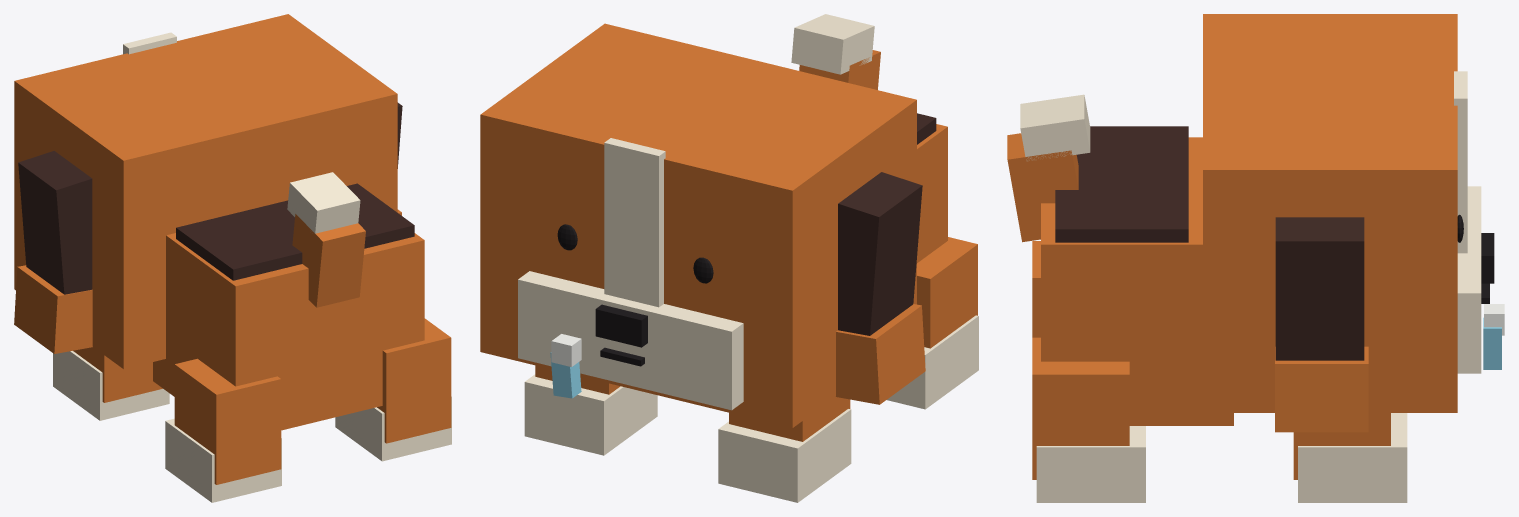
Rendered from Beagle_Block.gltf.
3 renders of one model, left to right at view 1: azimuth 30°, elevation 25°; view 2: azimuth 150°, elevation 25°; view 3: azimuth 270°, elevation 25°, orthographic. The views are drawn at different scales.
Parts seen in each view (by area): view 1: BigHead, ShortTorso, LegBL_Leg, FloppyEarL, DarkSaddle, LegBR_Leg, FloppyEarTipL, ShortTail, LegBL_Paw, LegFL_Paw, WhiteTailTip, LegBR_Paw (+2 smaller); view 2: BigHead, WhiteMuzzle, FloppyEarL, WhiteFaceStripe, LegFL_Paw, LegFR_Paw, FloppyEarTipL, LegBL_Leg, LegBL_Paw, WhiteTailTip, ShortTorso, LegFL_Leg (+5 smaller); view 3: BigHead, ShortTorso, DarkSaddle, FloppyEarR, LegBR_Leg, FloppyEarTipR, LegFR_Paw, LegBR_Paw, ShortTail, WhiteMuzzle, WhiteTailTip, LegFR_Leg (+4 smaller).
Boxes of the visible parts, x1=… form: BigHead: x1=14, y1=14, x2=397, y2=369; ShortTorso: x1=153, y1=233, x2=424, y2=430; LegBL_Leg: x1=174, y1=358, x2=281, y2=484; FloppyEarL: x1=18, y1=151, x2=92, y2=294; DarkSaddle: x1=176, y1=183, x2=414, y2=280; LegBR_Leg: x1=377, y1=318, x2=451, y2=443; FloppyEarTipL: x1=14, y1=265, x2=92, y2=353; ShortTail: x1=292, y1=214, x2=365, y2=307; LegBL_Paw: x1=165, y1=418, x2=281, y2=502; LegFL_Paw: x1=53, y1=351, x2=169, y2=420; WhiteTailTip: x1=287, y1=172, x2=360, y2=233; LegBR_Paw: x1=335, y1=396, x2=451, y2=461; BigHead: x1=480, y1=23, x2=916, y2=427; WhiteMuzzle: x1=518, y1=271, x2=743, y2=410; FloppyEarL: x1=838, y1=172, x2=922, y2=335; WhiteFaceStripe: x1=604, y1=138, x2=665, y2=307; LegFL_Paw: x1=718, y1=409, x2=851, y2=502; LegFR_Paw: x1=524, y1=374, x2=657, y2=455; FloppyEarTipL: x1=836, y1=304, x2=925, y2=404; LegBL_Leg: x1=917, y1=237, x2=977, y2=348; LegBL_Paw: x1=887, y1=315, x2=978, y2=409; WhiteTailTip: x1=791, y1=14, x2=874, y2=74; ShortTorso: x1=917, y1=124, x2=947, y2=262; LegFL_Leg: x1=729, y1=397, x2=850, y2=441; BigHead: x1=1203, y1=14, x2=1457, y2=412; ShortTorso: x1=1041, y1=137, x2=1233, y2=425; DarkSaddle: x1=1055, y1=126, x2=1188, y2=242; FloppyEarR: x1=1275, y1=217, x2=1364, y2=360; LegBR_Leg: x1=1032, y1=337, x2=1129, y2=479; FloppyEarTipR: x1=1275, y1=346, x2=1368, y2=432; LegFR_Paw: x1=1298, y1=413, x2=1407, y2=502; LegBR_Paw: x1=1036, y1=426, x2=1145, y2=502; ShortTail: x1=1007, y1=133, x2=1078, y2=242; WhiteMuzzle: x1=1457, y1=186, x2=1481, y2=373; WhiteTailTip: x1=1020, y1=94, x2=1090, y2=161; LegFR_Leg: x1=1293, y1=413, x2=1390, y2=479.
Bounding box in the file's own units: 2.76 × 2.26 × 2.91.
